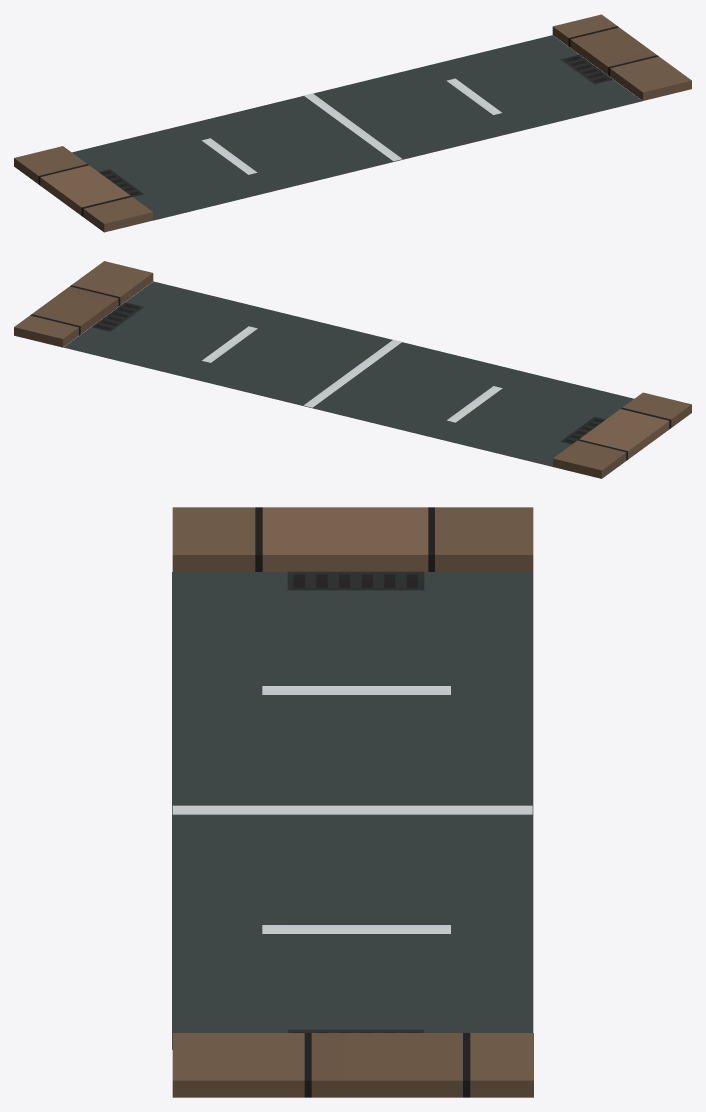
Rendered from Road_1_207.fbx.
The picture shows the model from 3 angles, top to bottom: view 1: azimuth 30°, elevation 25°; view 2: azimuth 150°, elevation 25°; view 3: azimuth 270°, elevation 25°; orthographic projection. The views are drawn at different scales.
Visible parts, largest first — view 1: Road_1_207; view 2: Road_1_207; view 3: Road_1_207.
Part boxes in pixels (bbox=[...]): Road_1_207: bbox=[14, 14, 691, 232]; Road_1_207: bbox=[14, 261, 691, 478]; Road_1_207: bbox=[172, 507, 533, 1097].
Size of the model in its own units: 2161 by 30 by 576.
